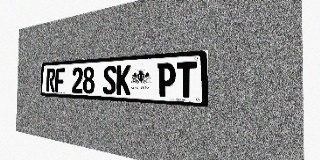2: (72, 67, 83, 93)
8: (83, 66, 95, 94)
F: (55, 68, 65, 92)
K: (116, 65, 131, 95)
P: (157, 62, 176, 97)
R: (46, 68, 55, 92)
S: (103, 65, 116, 95)
T: (176, 61, 197, 98)
